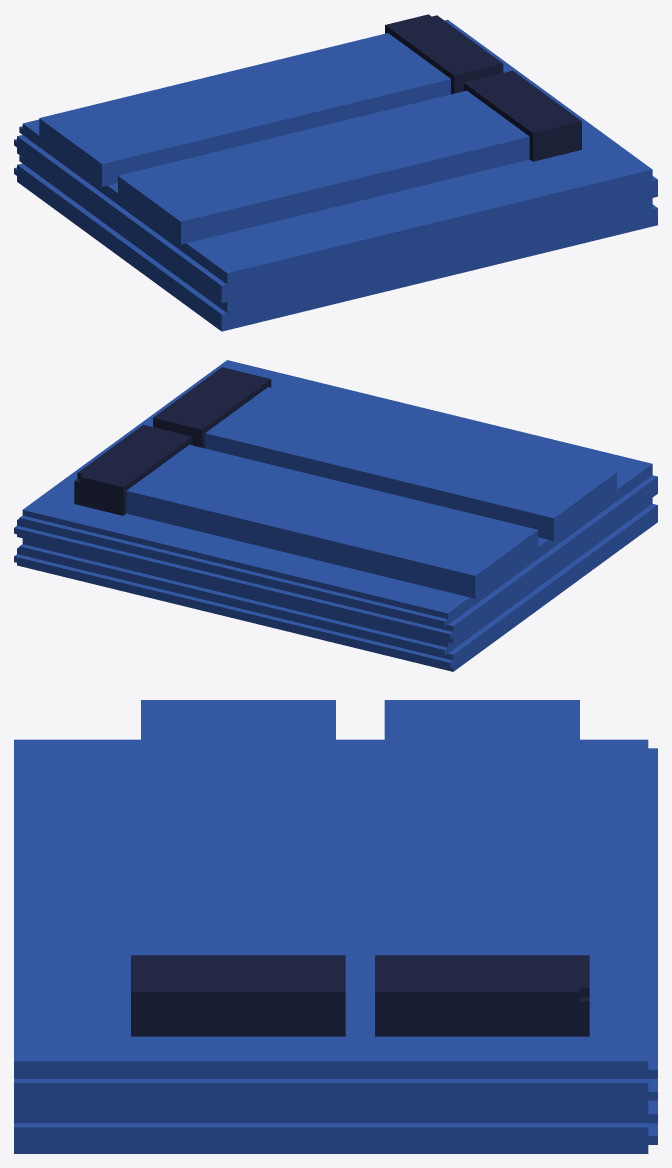
Rendered from snuggie.glb.
The picture shows the model from 3 angles, top to bottom: view 1: azimuth 30°, elevation 25°; view 2: azimuth 150°, elevation 25°; view 3: azimuth 270°, elevation 25°; orthographic projection. The views are drawn at different scales.
Visible parts, largest first — view 1: snuggie:compound; view 2: snuggie:compound; view 3: snuggie:compound.
Boxes of the visible parts, x1=… form: snuggie:compound: x1=14, y1=14, x2=657, y2=331; snuggie:compound: x1=14, y1=360, x2=657, y2=671; snuggie:compound: x1=14, y1=700, x2=657, y2=1153.
Bounding box in the file's own units: 0.32 × 0.06 × 0.264.
